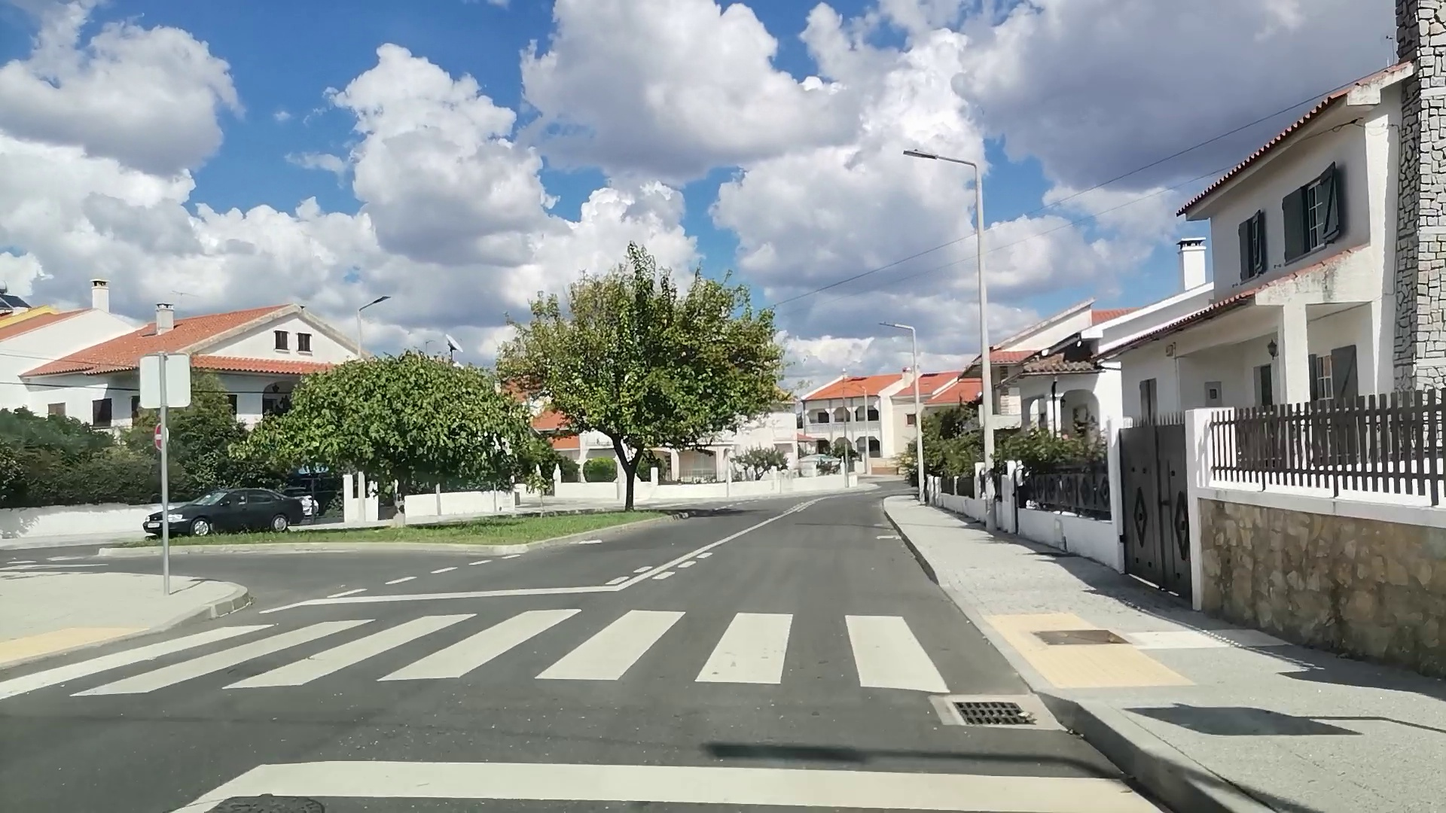Stairs: (0, 607, 1043, 695)
